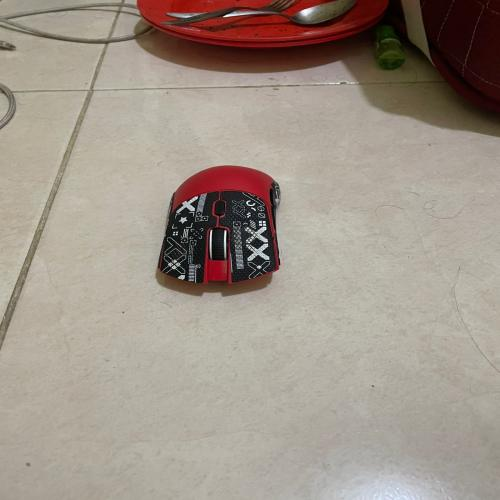mouse: (151, 153, 298, 307)
